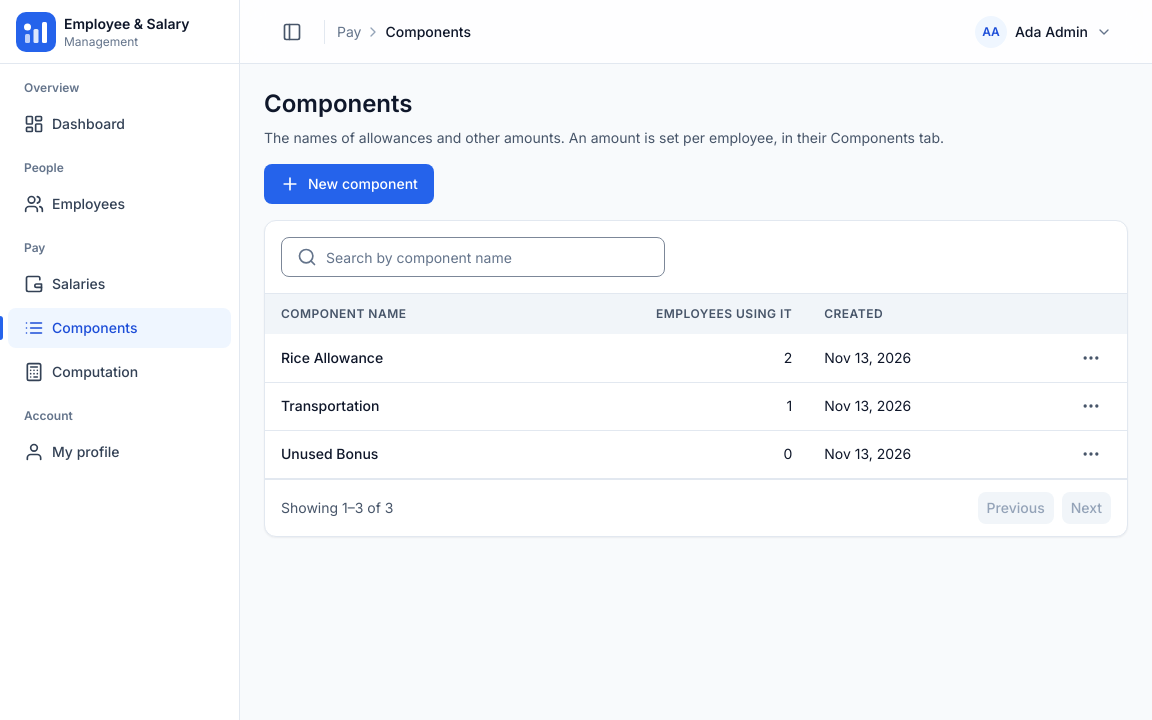
Components catalog page › new component › closes without saving on Cancel and Escape
Expected: the table named "Components" is shown, [265,294,1127,478]
Click the button "New component" at (349, 184), box [264,164,434,204]
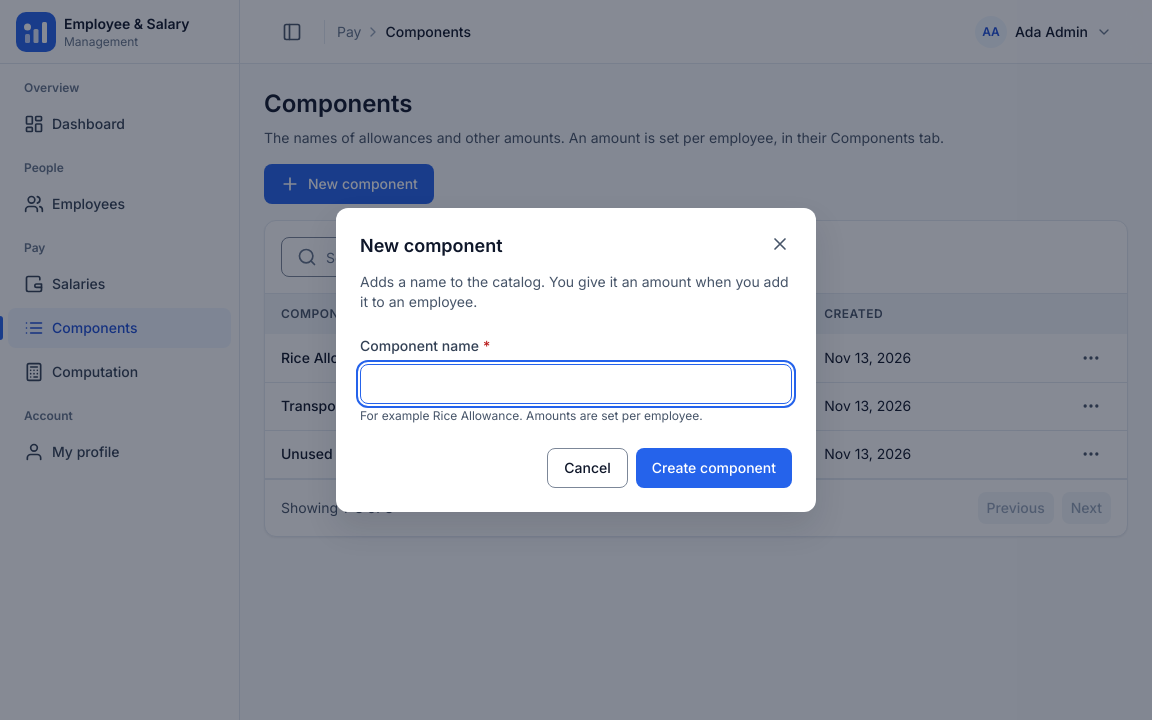
Click the button "Cancel" at (588, 468), box [547,448,628,488]
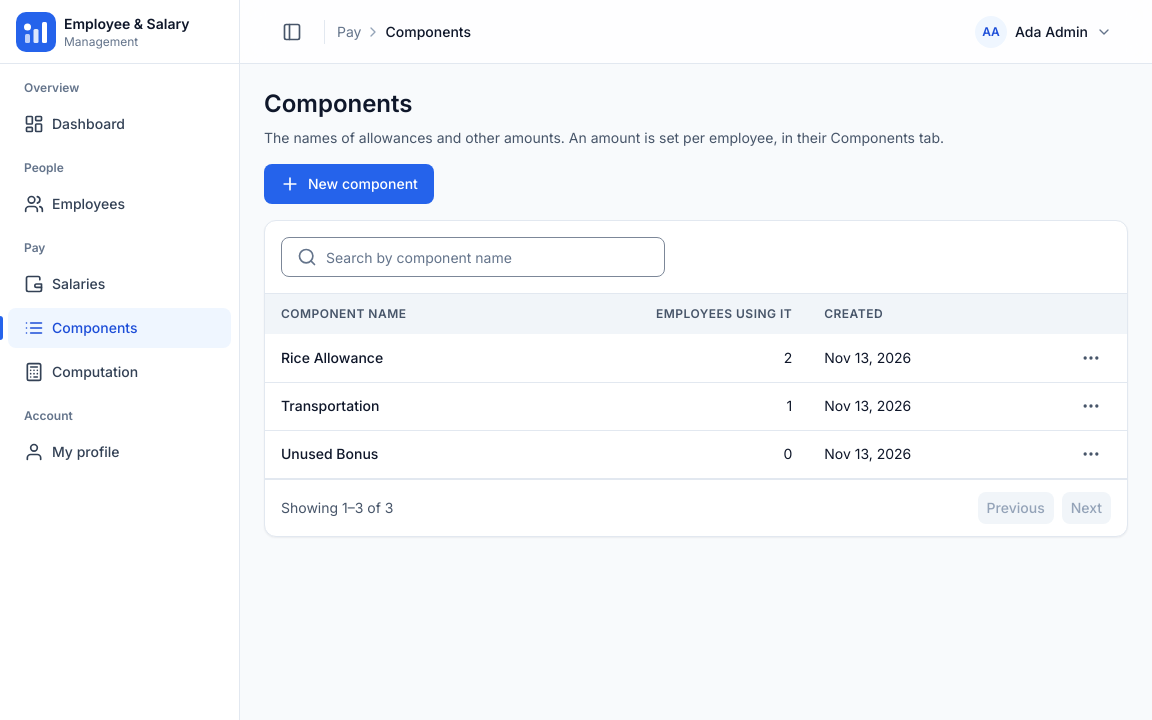
Click the button "New component" at (349, 184), box [264,164,434,204]
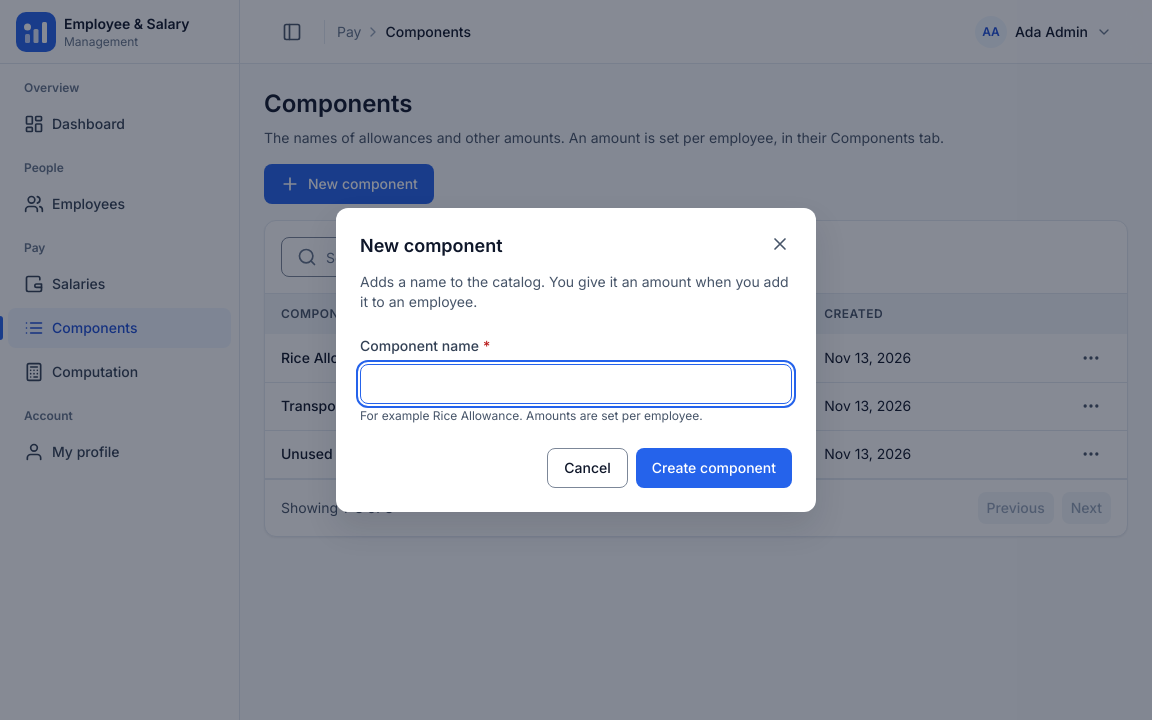
Result: the dialog is shown at [336,208,816,512]
Press Escape
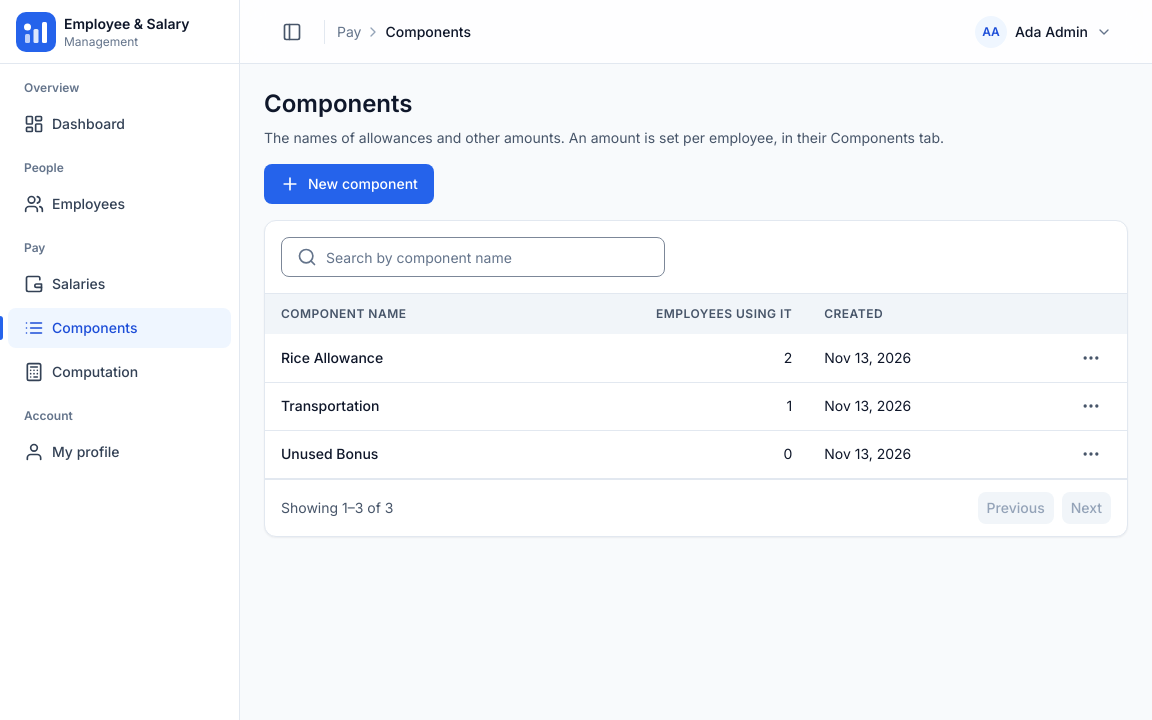
Result: the dialog is gone
